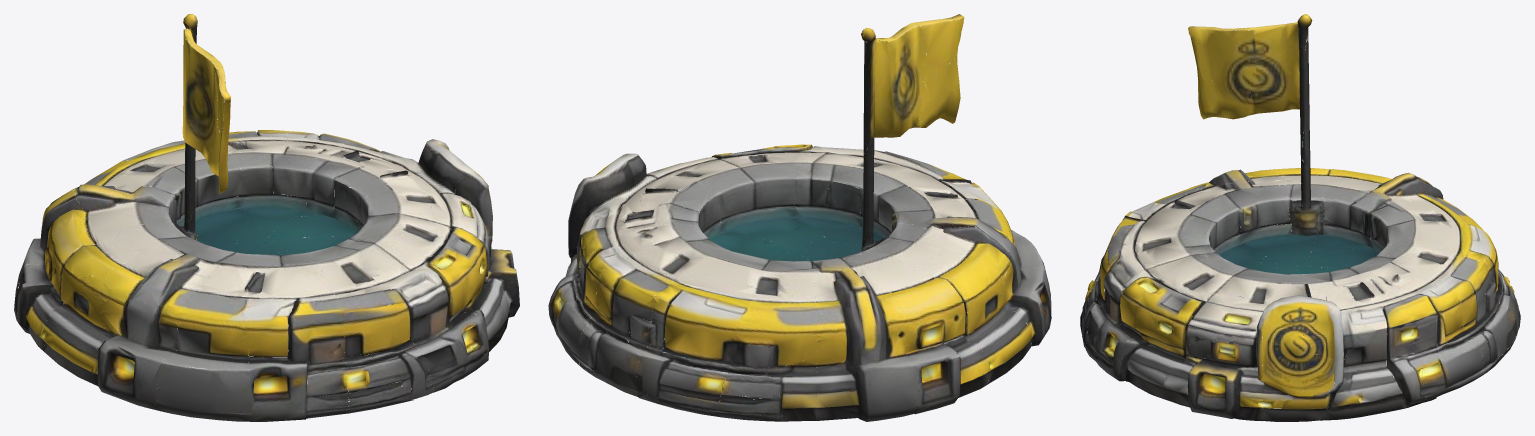
File: yellowe_stadium_fix.glb
3 renders of one model, left to right at view 1: azimuth 30°, elevation 25°; view 2: azimuth 150°, elevation 25°; view 3: azimuth 270°, elevation 25°, orthographic. The views are drawn at different scales.
Parts seen in each view (by area): view 1: Mesh0.001; view 2: Mesh0.001; view 3: Mesh0.001.
Boxes of the visible parts, box(x1,y1,x2,y2) form: Mesh0.001: box(14, 14, 519, 421); Mesh0.001: box(548, 14, 1051, 421); Mesh0.001: box(1080, 14, 1520, 421).
Bounding box in the file's own units: 0.9929 × 0.7253 × 1.
Materials: 1 (1 with a texture image).
